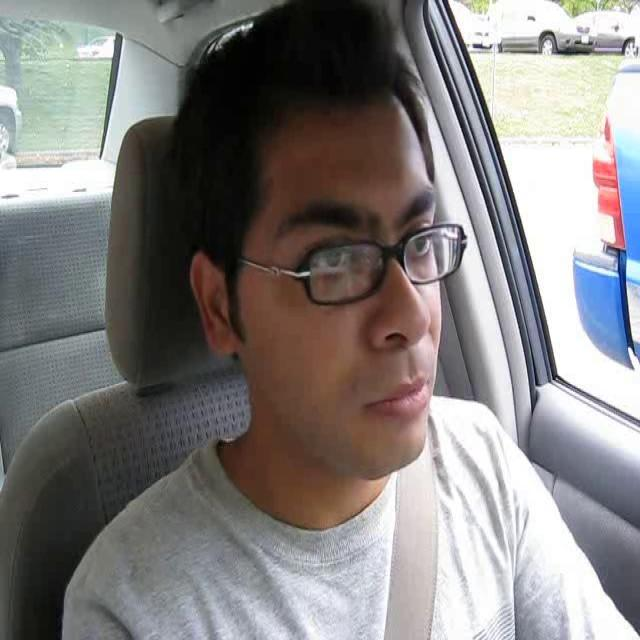close: (356, 371, 431, 423)
